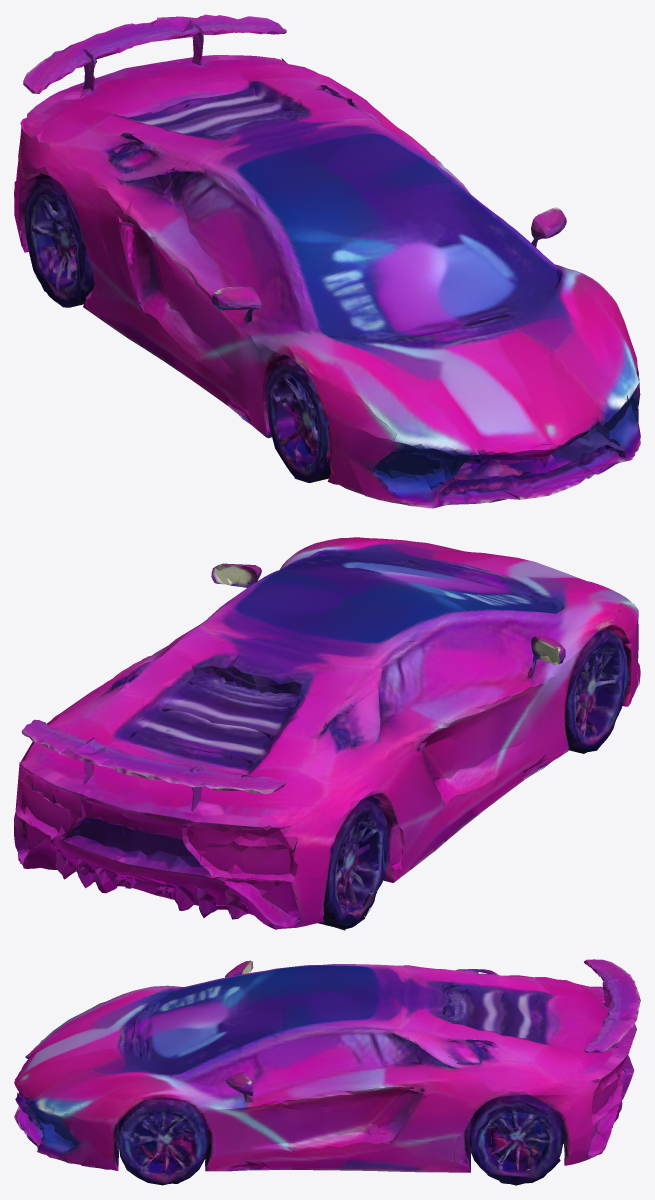
The model's file is electrichypercar2.glb.
3 views of the same model, one above another, from view 1: azimuth 30°, elevation 25°; view 2: azimuth 150°, elevation 25°; view 3: azimuth 270°, elevation 25° (orthographic). The views are drawn at different scales.
Parts seen in each view (by area): view 1: body, panel_trunk, panel_door_L, wheel_front_L, panel_roof, panel_bumper_f, wheel_rear_L, panel_hood, wheel_front_R, panel_bumper_r; view 2: body, panel_trunk, panel_door_L, panel_bumper_r, panel_roof, wheel_rear_L, wheel_front_L, panel_hood, wheel_rear_R, panel_bumper_f; view 3: body, panel_door_R, panel_trunk, wheel_front_R, panel_roof, wheel_rear_R, panel_bumper_r, panel_hood, panel_bumper_f.
Part boxes in pixels (x1,y1,x2,y2): body: [20, 55, 638, 507]; panel_trunk: [20, 14, 396, 311]; panel_door_L: [45, 165, 277, 437]; wheel_front_L: [224, 354, 454, 508]; panel_roof: [126, 121, 496, 330]; panel_bumper_f: [268, 359, 635, 492]; wheel_rear_L: [14, 174, 171, 311]; panel_hood: [212, 207, 612, 390]; wheel_front_R: [604, 297, 640, 464]; panel_bumper_r: [14, 66, 342, 246]; body: [21, 537, 638, 926]; panel_trunk: [19, 641, 442, 874]; panel_door_L: [351, 648, 582, 878]; panel_bumper_r: [14, 741, 397, 927]; panel_roof: [146, 563, 559, 747]; wheel_rear_L: [222, 789, 447, 930]; wheel_front_L: [520, 603, 640, 782]; panel_hood: [211, 549, 621, 698]; wheel_rear_R: [14, 714, 163, 879]; panel_bumper_f: [563, 605, 630, 697]; body: [14, 964, 636, 1170]; panel_door_R: [178, 1077, 528, 1172]; panel_trunk: [392, 959, 640, 1140]; wheel_front_R: [28, 1097, 272, 1185]; panel_roof: [182, 962, 418, 1098]; wheel_rear_R: [365, 1099, 618, 1185]; panel_bumper_r: [468, 997, 633, 1165]; panel_hood: [129, 960, 268, 1125]; panel_bumper_f: [14, 1048, 204, 1135].
Size of the model in its own units: 1.89 by 0.9898 by 4.
1 material, 1 textured.
